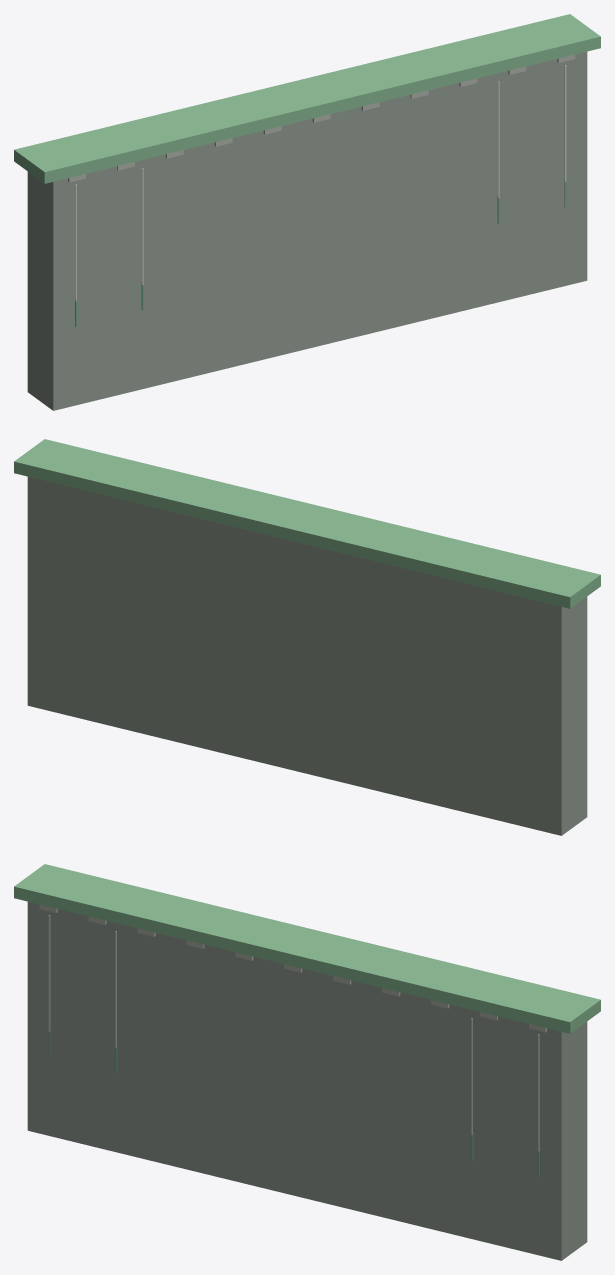
Rendered from templo_fondo.glb.
3 renders of one model, top to bottom at view 1: azimuth 30°, elevation 25°; view 2: azimuth 150°, elevation 25°; view 3: azimuth 330°, elevation 25°, orthographic.
Parts seen in each view (by area): view 1: templo_fondo; view 2: templo_fondo; view 3: templo_fondo.
Part boxes in pixels (x1,y1,x2,y2): templo_fondo: (14,14,600,410); templo_fondo: (14,439,600,835); templo_fondo: (14,864,600,1260).
Bounding box in the file's own units: 25 × 10.45 × 2.4.
